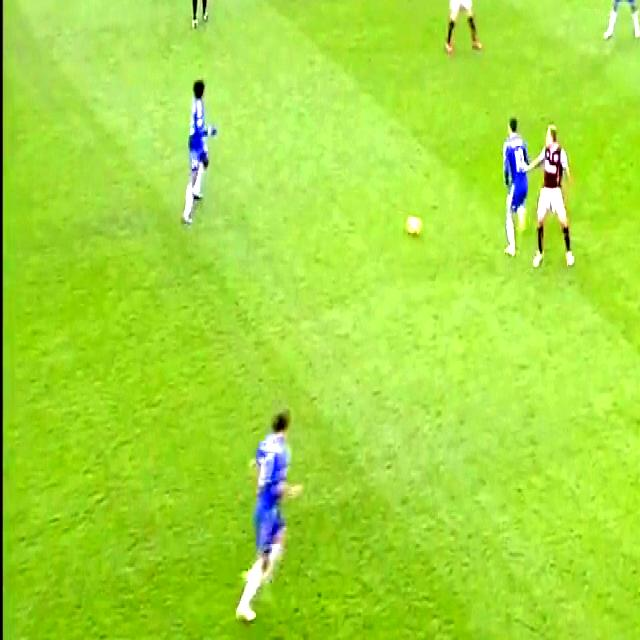ball: (406, 209, 425, 247)
referee: (181, 0, 218, 34)
soccer-player: (235, 392, 308, 623), (525, 114, 581, 280), (172, 72, 219, 231), (494, 104, 534, 262), (436, 0, 484, 66), (594, 0, 640, 46)
